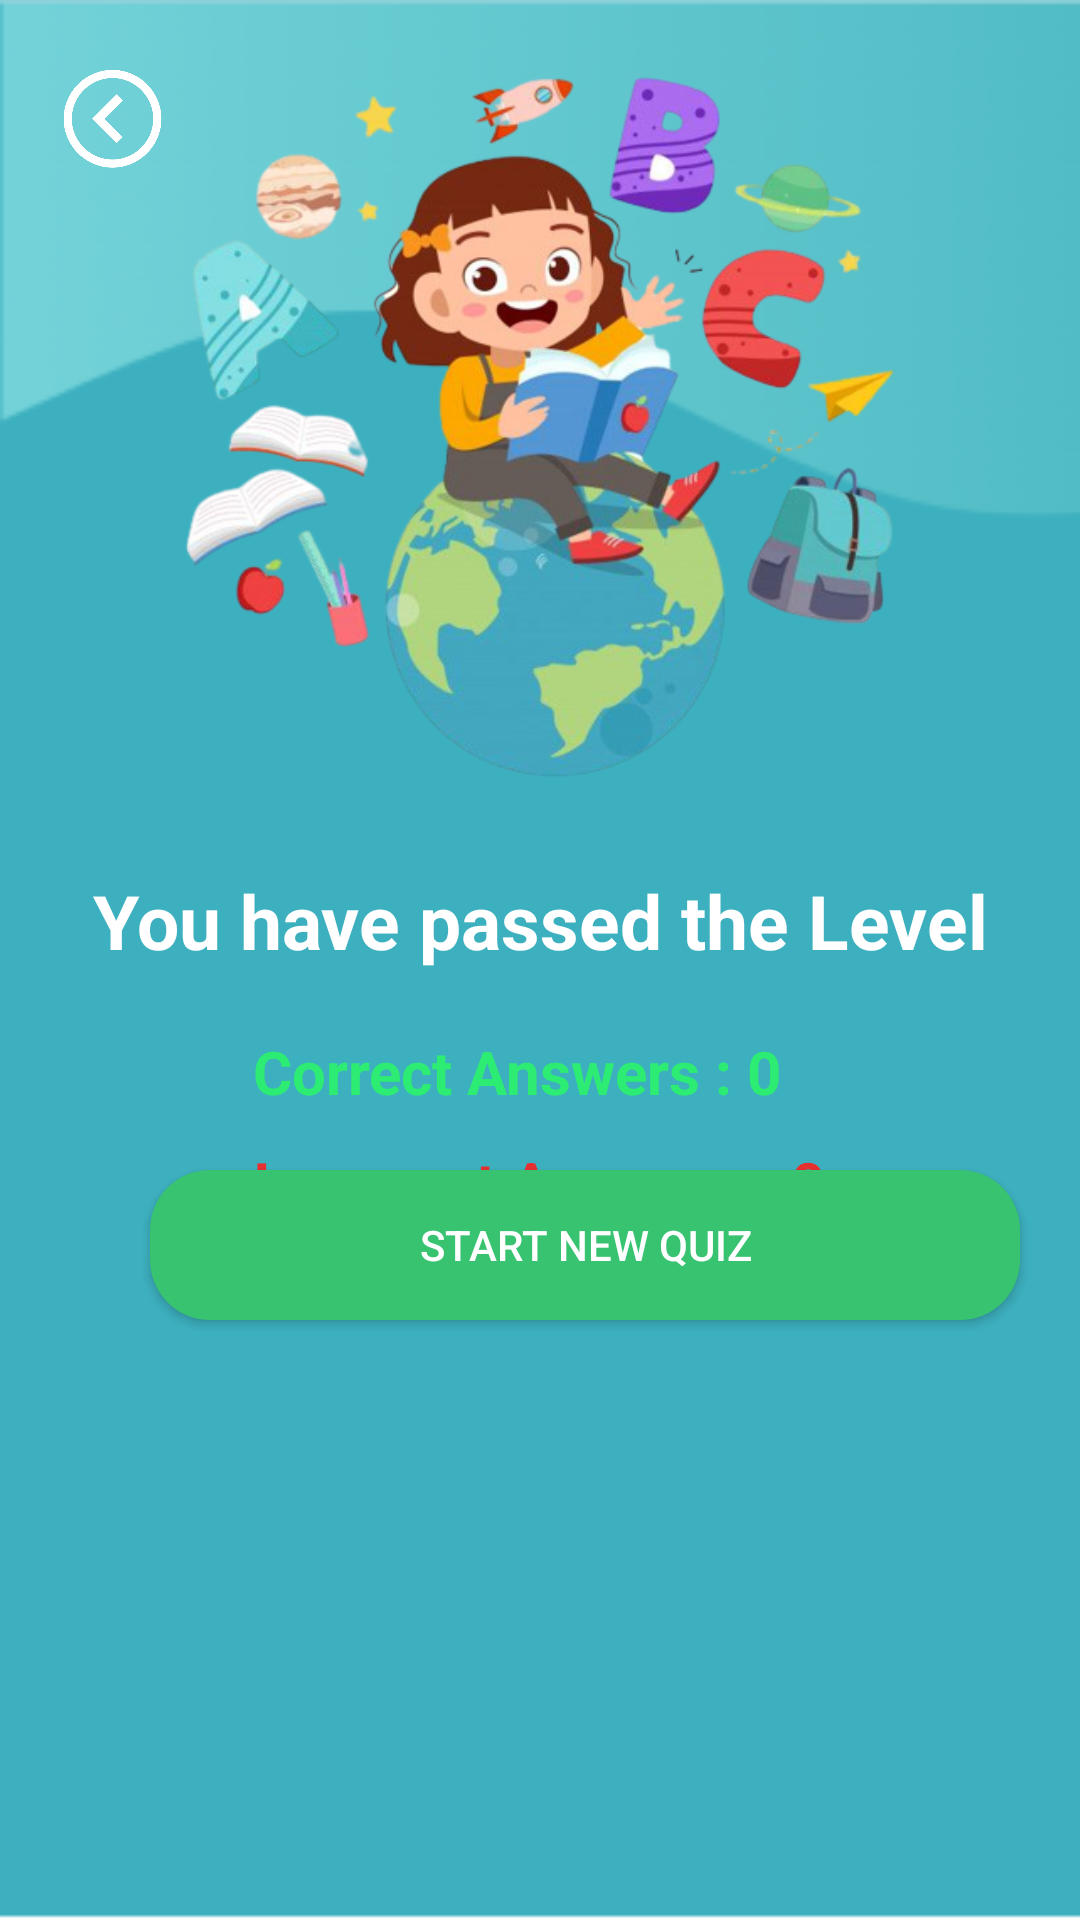

Icon click points for this 1080px×1920px phone screenshot, format point (x, y):
back: point (112, 119)
